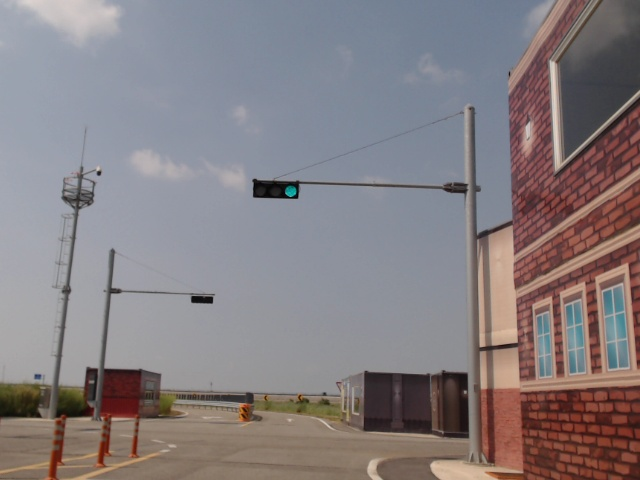green_3: (253, 182, 299, 199)
